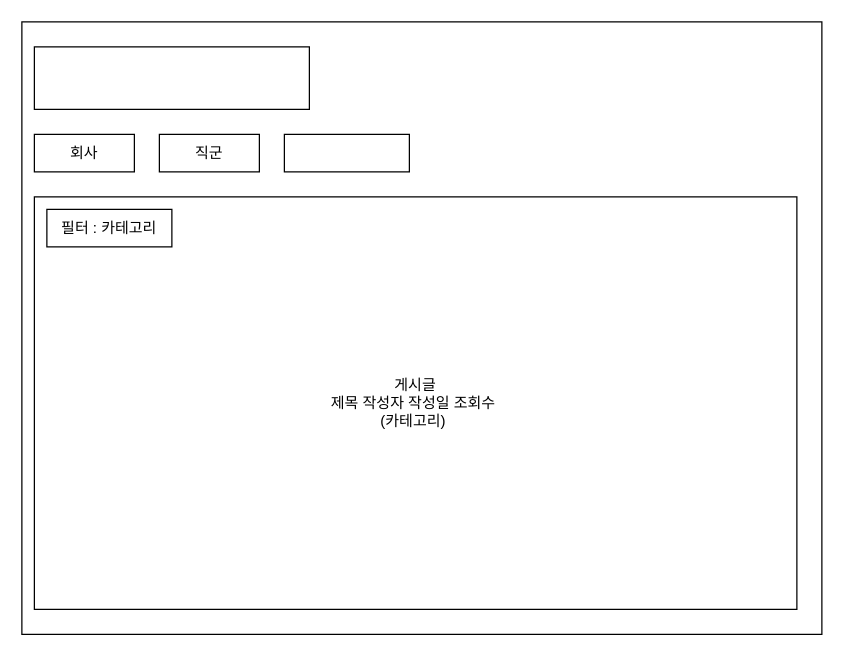
This 844x656 diagram has some shape labels left out. The shapes that lost their labels are listed below. From the top down, each one's centre as x and y in pixels, then its label:
(171,77): 게시판 탭 (전체, 부서게시판)
(346,152): 직군별로 골라야할 조건들
